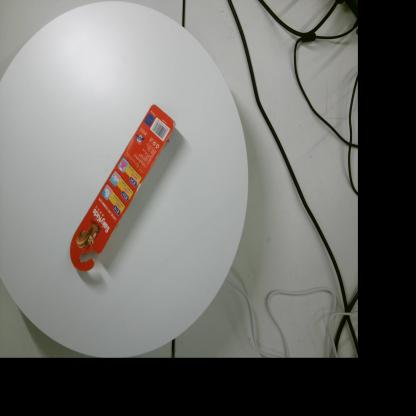Personal Hygiene: (70, 104, 176, 272)
